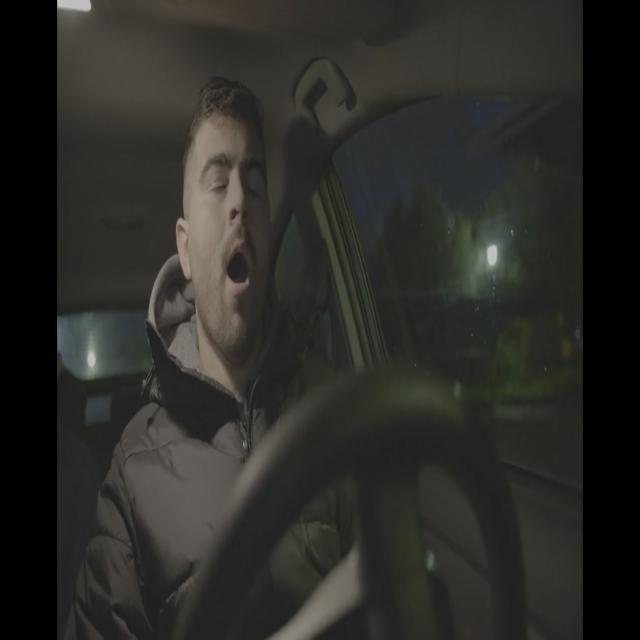open-mouth: (224, 236, 254, 304)
